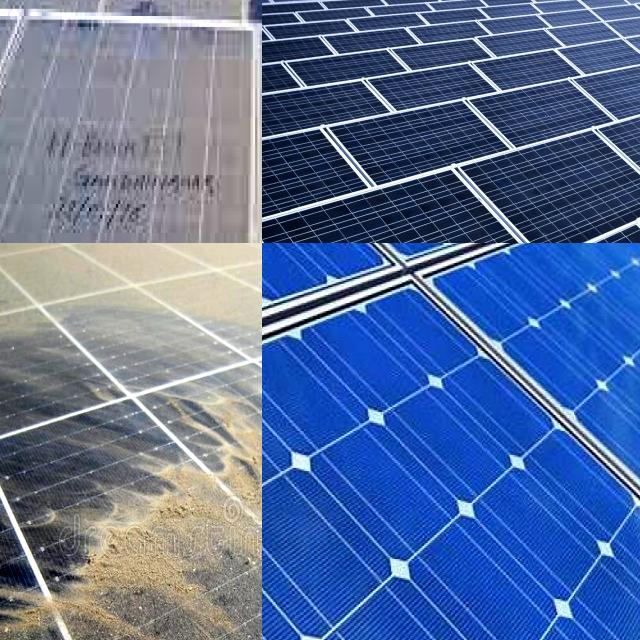crack: (262, 289, 640, 640), (410, 243, 640, 639), (262, 243, 595, 346), (262, 243, 441, 408), (262, 158, 547, 243), (323, 110, 527, 210), (458, 131, 640, 243), (262, 121, 372, 243), (470, 86, 624, 172), (363, 64, 505, 114), (262, 87, 393, 131), (470, 56, 601, 100), (574, 62, 640, 133), (599, 98, 640, 205), (465, 31, 580, 68), (544, 12, 621, 58), (571, 49, 572, 53)
dust: (72, 470, 226, 640), (123, 42, 247, 243), (0, 27, 114, 243), (0, 243, 117, 384), (136, 243, 262, 363), (0, 481, 78, 640), (0, 22, 21, 243), (0, 0, 99, 39), (114, 0, 232, 29)
